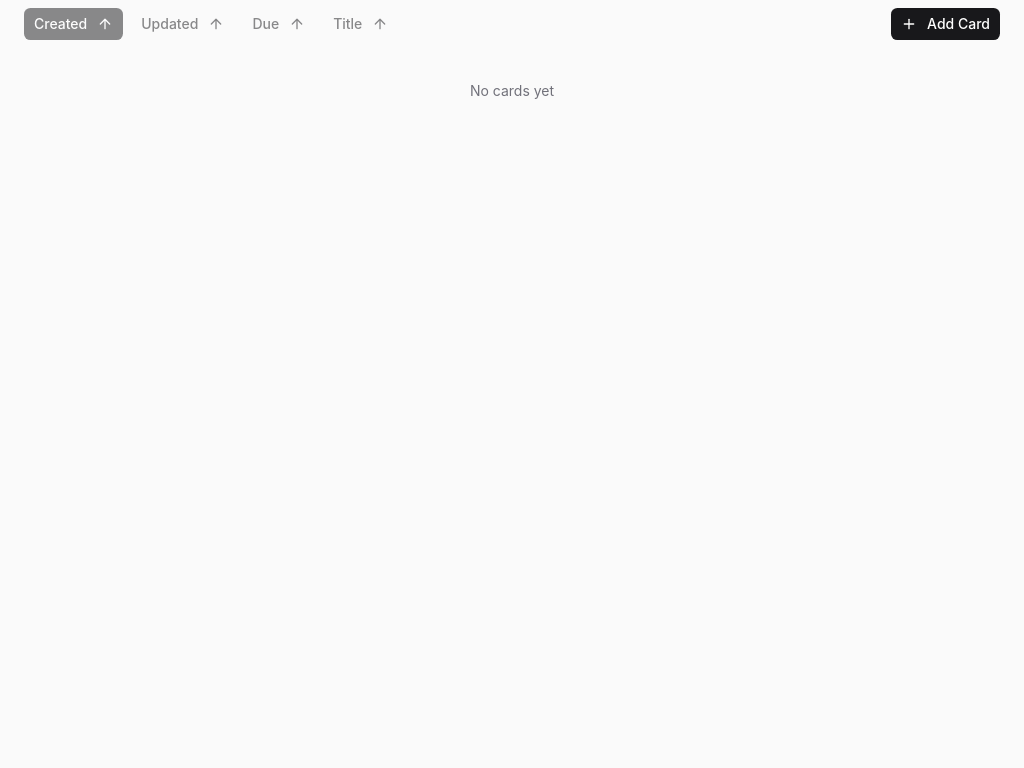
Test: BoardListView › shows hint when no columns exist
The width and height of the screenshot is (1024, 768).
Click the button "Add Card" at (946, 24), box [891,8,1000,40]
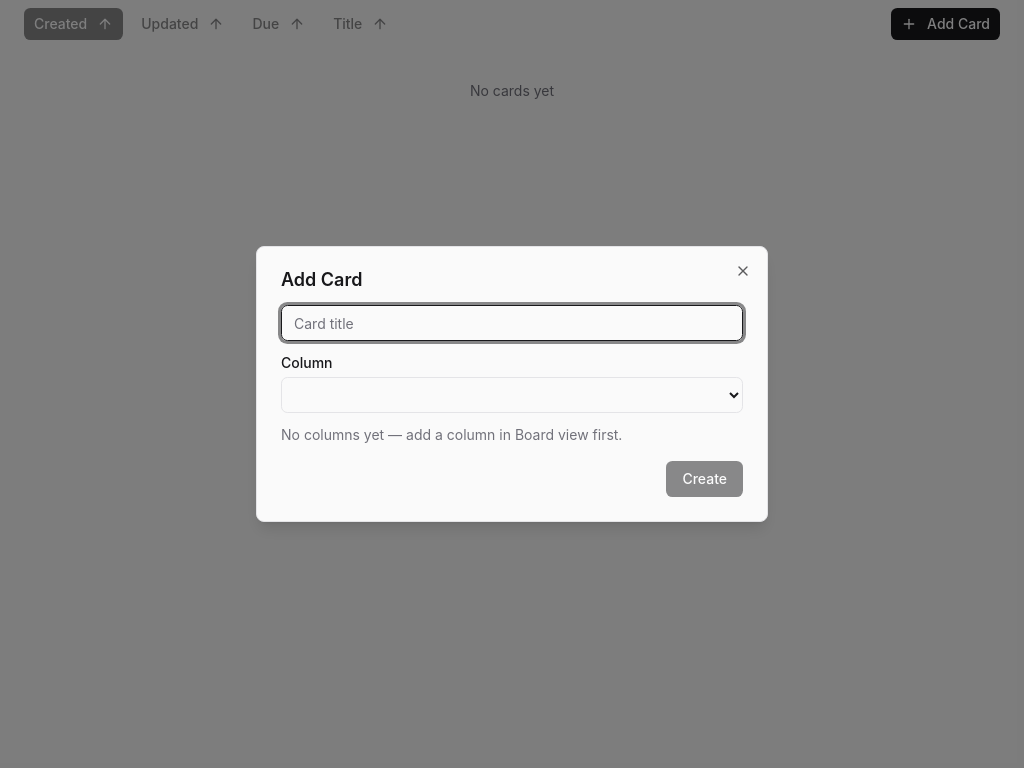
Result: the text "No columns yet — add a column in Board view first." is shown at [281,426,622,443]
